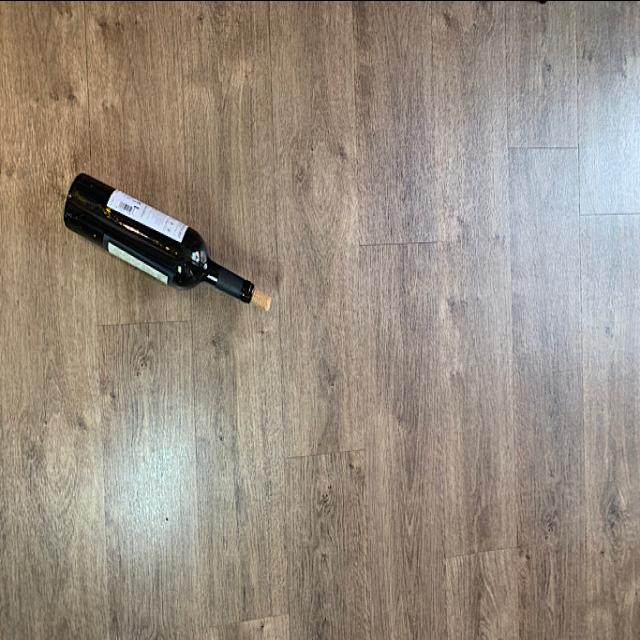litter: (60, 168, 260, 308)
